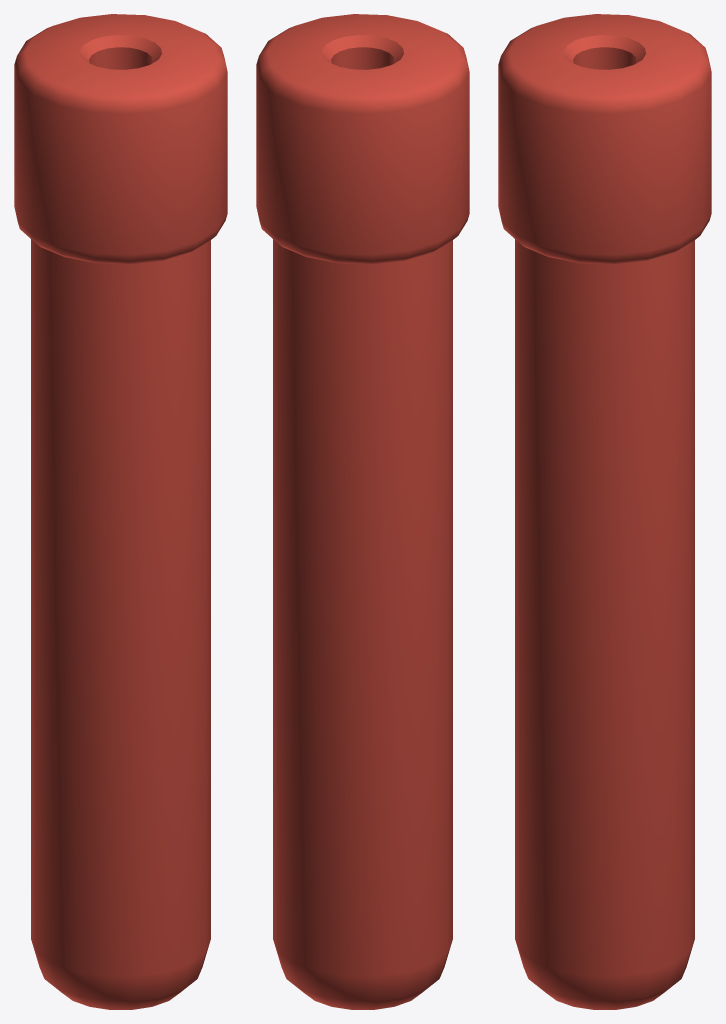
File: kantüpü-tek.fbx
The picture shows the model from 3 angles, left to right: view 1: azimuth 30°, elevation 25°; view 2: azimuth 150°, elevation 25°; view 3: azimuth 270°, elevation 25°; orthographic projection.
Parts seen in each view (by area): view 1: Phial_Blank_1_Phials_Blank_0; view 2: Phial_Blank_1_Phials_Blank_0; view 3: Phial_Blank_1_Phials_Blank_0.
Boxes of the visible parts, x1=… form: Phial_Blank_1_Phials_Blank_0: x1=14, y1=14, x2=227, y2=1009; Phial_Blank_1_Phials_Blank_0: x1=256, y1=14, x2=469, y2=1009; Phial_Blank_1_Phials_Blank_0: x1=498, y1=14, x2=711, y2=1009.
Bounding box in the file's own units: 16.87 × 82.27 × 16.88.
